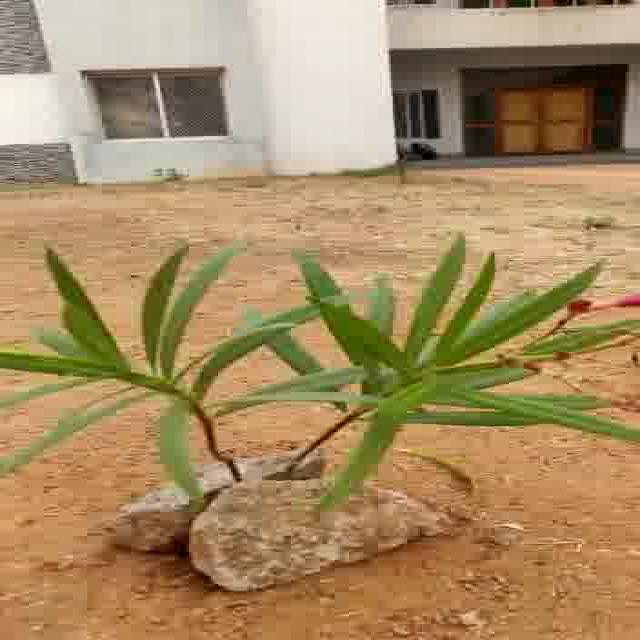Oleander: (19, 236, 640, 502)
